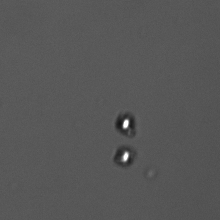Living Cell: (114, 110, 138, 137), (112, 144, 138, 167)
